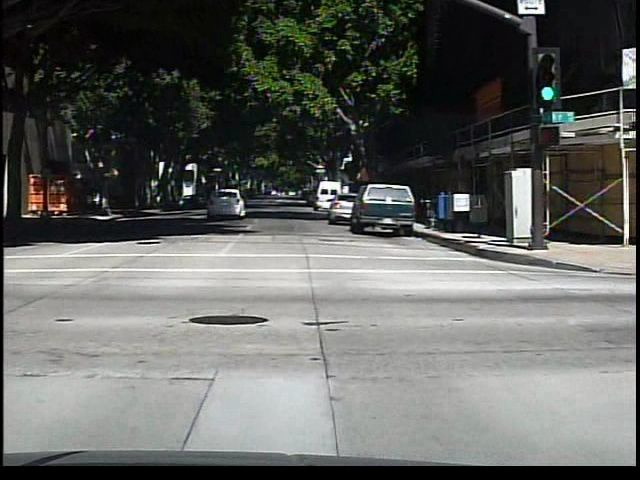person: (87, 182, 103, 217)
